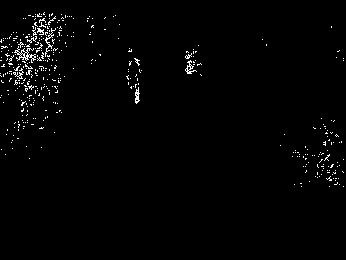person: (126, 56, 143, 105)
